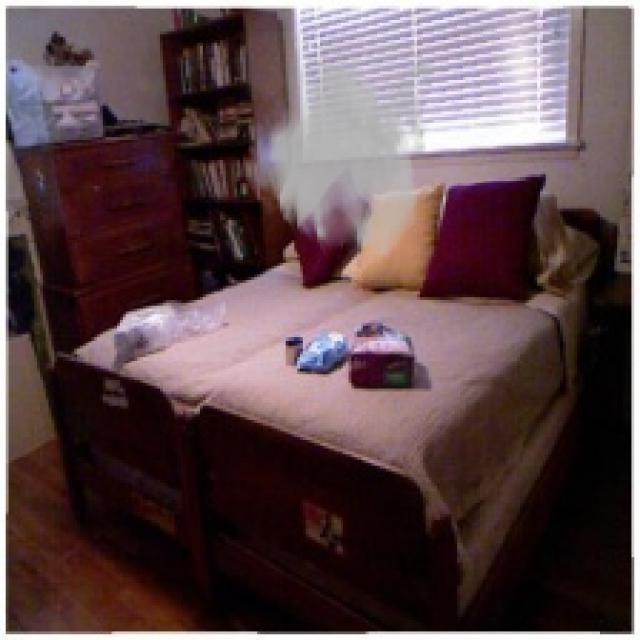smoke: (240, 31, 440, 263)
